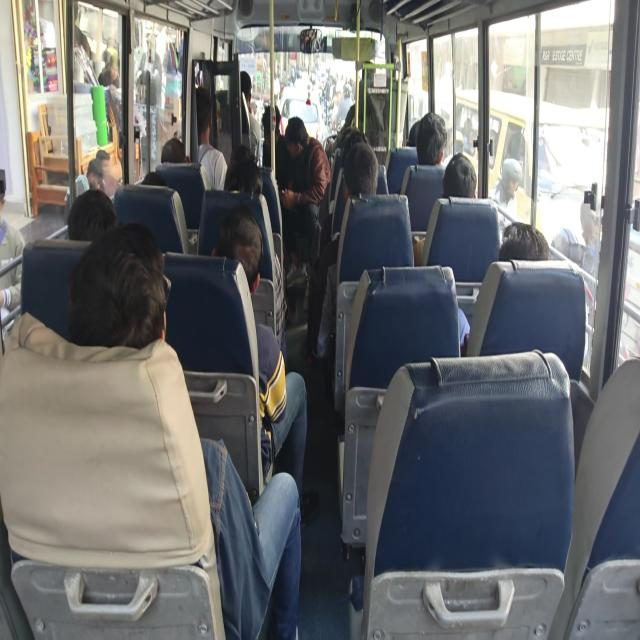person: (93, 256, 171, 352), (215, 205, 265, 262), (71, 192, 117, 236), (349, 146, 382, 200), (222, 162, 269, 198), (332, 128, 367, 169), (504, 220, 546, 253), (418, 111, 445, 159), (264, 101, 288, 153), (192, 88, 212, 140), (452, 156, 479, 194), (285, 119, 306, 164), (355, 62, 380, 89), (230, 142, 258, 166), (235, 72, 252, 105), (140, 170, 160, 191), (162, 140, 182, 160)
